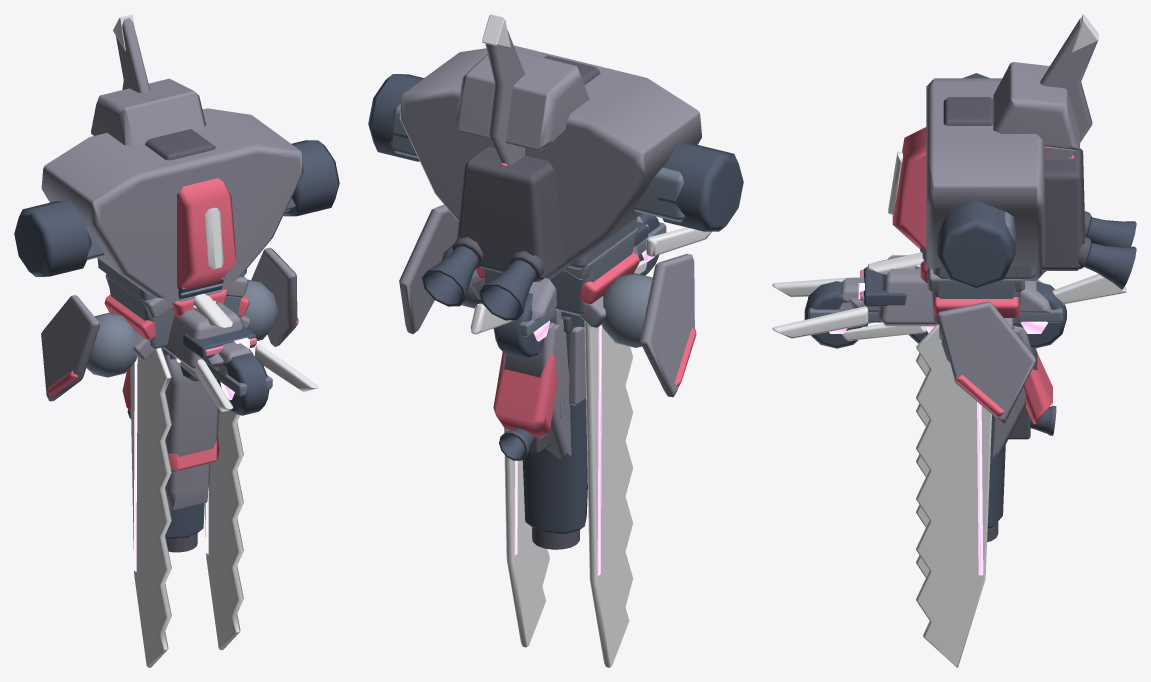
Rendered from razor.glb.
The picture shows the model from 3 angles, left to right: view 1: azimuth 30°, elevation 25°; view 2: azimuth 150°, elevation 25°; view 3: azimuth 270°, elevation 25°; orthographic projection. The views are drawn at different scales.
Visible parts, largest first — view 1: chest/P, elR/T, chest/D, elL/T, hips/P, hips/K, chest/S, hipL/P, head/P, ankleL/D, ankleL/T, kneeL/P (+13 smaller); view 2: chest/P, elR/T, chest/D, chest/F, hips/P, hipL/D, hips/K, elL/T, kneeL/S, chest/K, kneeL/P, wingL/P (+11 smaller); view 3: chest/P, elL/T, chest/D, hips/P, chest/F, ankleL/T, chest/S, head/P, wingL/P, ankleL/D, hips/K, hipL/D (+14 smaller).
Part boxes in pixels (x1,y1,x2,y2): chest/P: (41, 78, 303, 303); elR/T: (130, 347, 171, 667); chest/D: (14, 140, 339, 299); elL/T: (205, 409, 243, 650); hips/P: (41, 247, 297, 401); hips/K: (86, 279, 278, 377); chest/S: (177, 178, 235, 290); hipL/P: (163, 353, 219, 471); head/P: (164, 302, 252, 376); ankleL/D: (180, 353, 269, 415); ankleL/T: (195, 344, 318, 411); kneeL/P: (165, 353, 210, 510); chest/P: (399, 45, 701, 279); elR/T: (584, 321, 633, 667); chest/D: (368, 74, 743, 320); chest/F: (452, 55, 600, 281); hips/P: (399, 204, 694, 397); hipL/D: (522, 311, 587, 534); hips/K: (442, 234, 652, 347); elL/T: (502, 351, 549, 647); kneeL/S: (493, 352, 557, 437); chest/K: (390, 104, 684, 269); kneeL/P: (503, 318, 571, 459); wingL/P: (485, 30, 524, 164); chest/P: (926, 62, 1079, 280); elL/T: (916, 324, 991, 667); chest/D: (920, 73, 1136, 289); hips/P: (937, 301, 1035, 423); chest/F: (943, 97, 1091, 270); ankleL/T: (772, 274, 1126, 338); chest/S: (892, 127, 1074, 251); head/P: (839, 255, 937, 326); wingL/P: (1040, 18, 1097, 271); ankleL/D: (804, 281, 1066, 348); hips/K: (932, 282, 1020, 362); hipL/D: (987, 415, 1005, 528).
Size of the model in its own units: 3.1 by 6.01 by 3.14.
